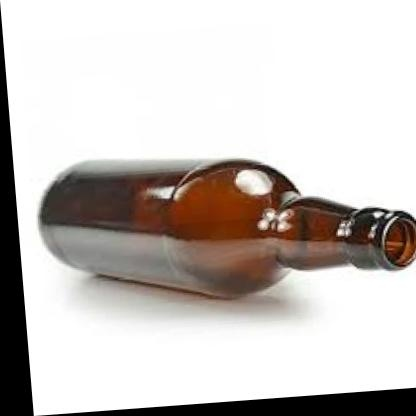trash: (40, 159, 415, 298)
